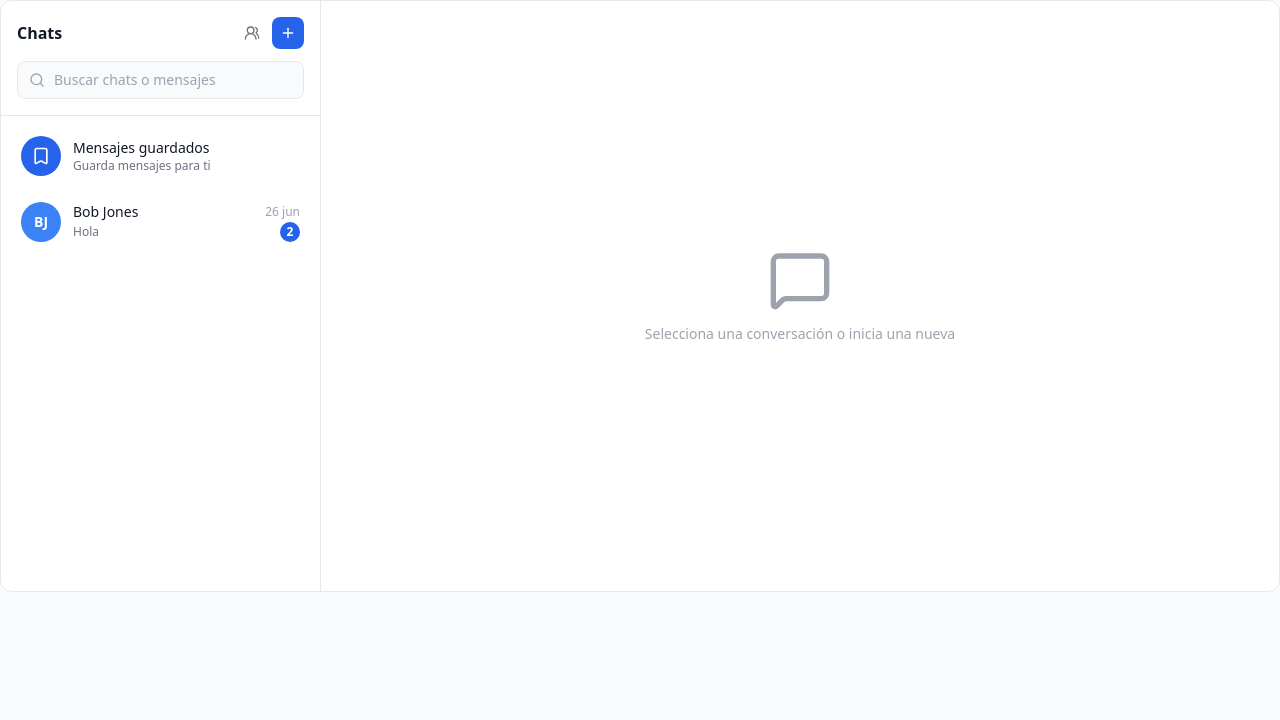
Test: ChatPage › opens a conversation and shows its messages
The image size is (1280, 720).
Step 1. Click the text "Bob Jones" → (106, 212), box [73,202,138,222]
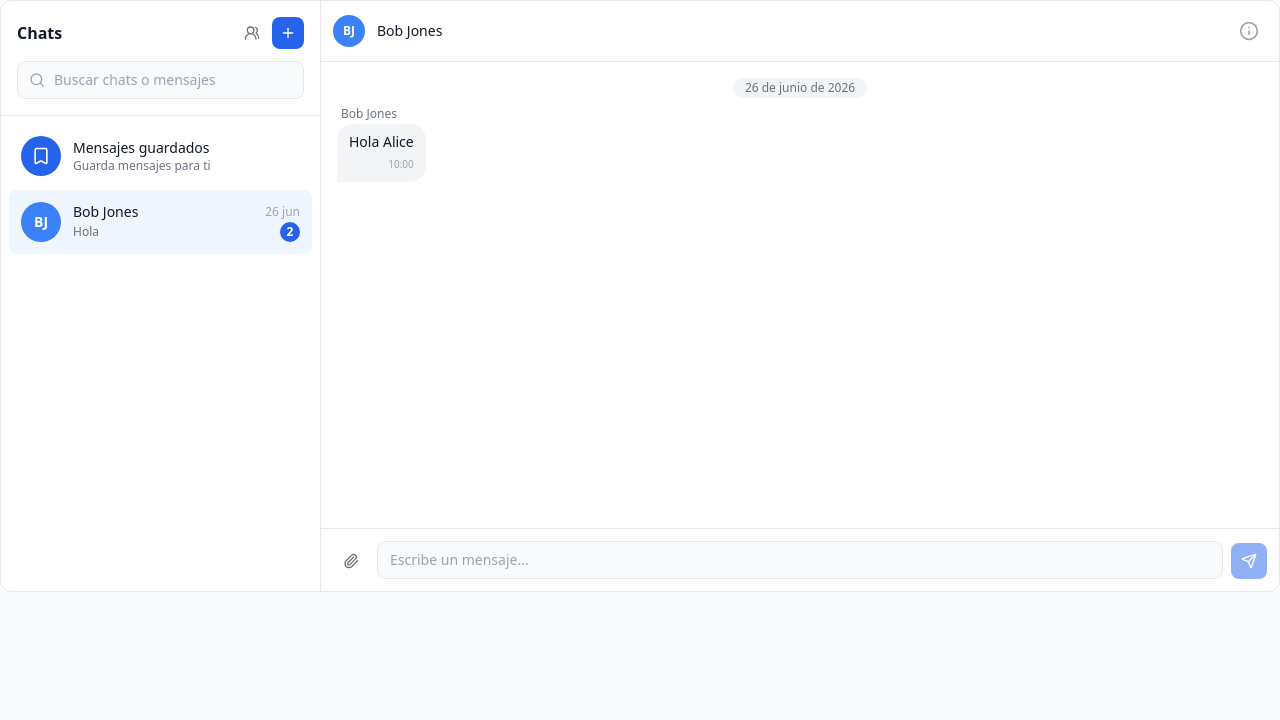
Result: the text "Hola Alice" is shown at [349,132,414,151]
